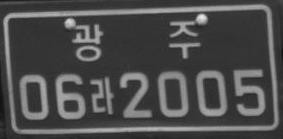0: (195, 68, 228, 118), (156, 70, 190, 118), (17, 73, 49, 120)
2: (119, 71, 152, 119)
5: (232, 68, 266, 117)
6: (54, 72, 86, 120)
광주_D: (72, 20, 200, 61)
라: (90, 75, 114, 115)
